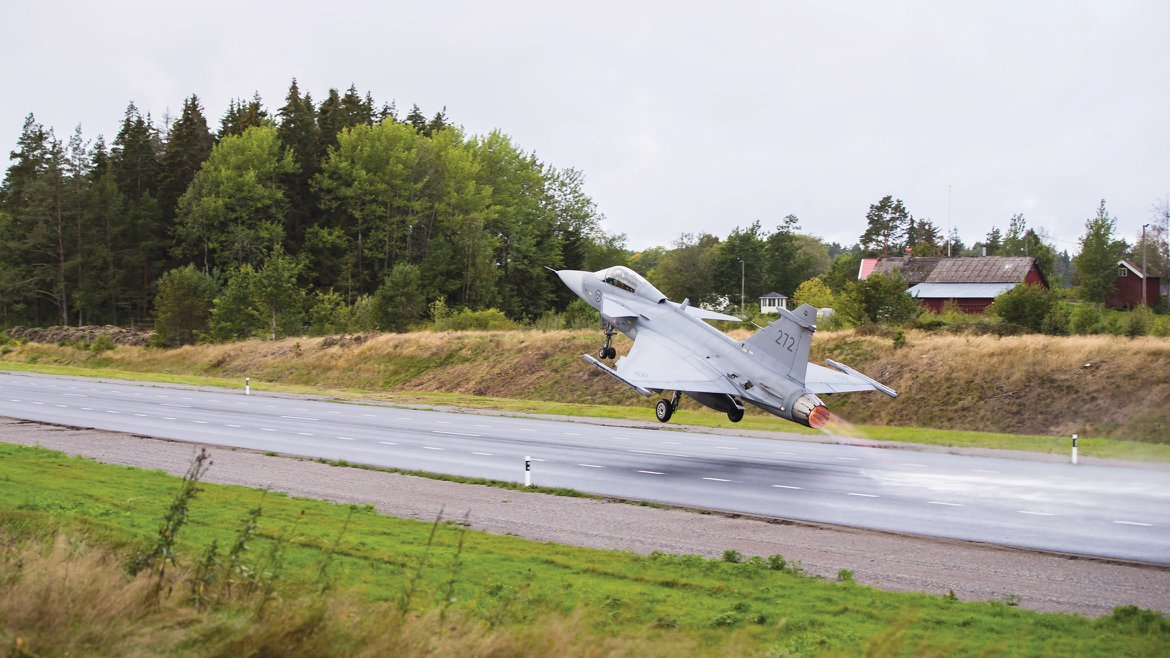JAS39: (542, 264, 896, 430)
